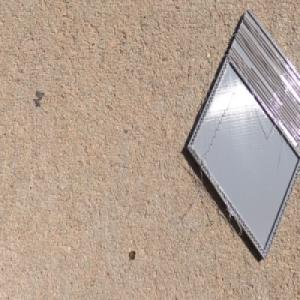PlasticPart: (186, 5, 300, 263)
